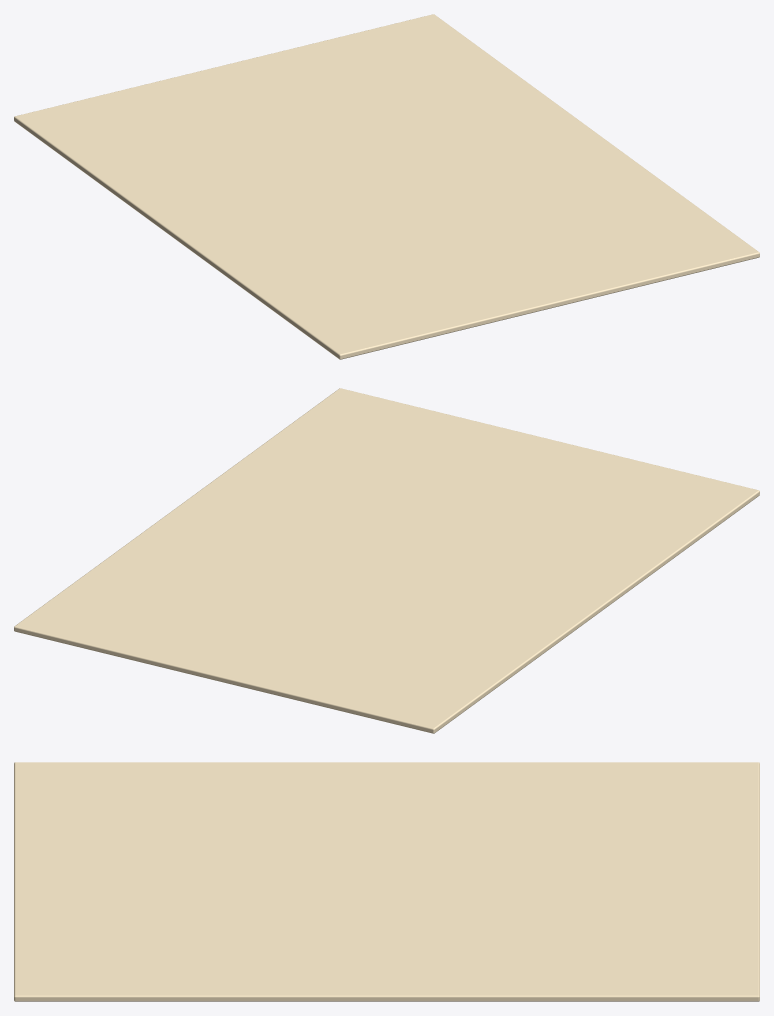
The model's file is fridge-lid-light.glb.
3 views of the same model, one above another, from view 1: azimuth 30°, elevation 25°; view 2: azimuth 150°, elevation 25°; view 3: azimuth 270°, elevation 25° (orthographic). The views are drawn at different scales.
Parts seen in each view (by area): view 1: ivory; view 2: ivory; view 3: ivory.
Boxes of the visible parts, bbox=[...] form: ivory: bbox=[14, 14, 759, 359]; ivory: bbox=[14, 388, 759, 733]; ivory: bbox=[14, 762, 759, 1001].
Size of the model in its own units: 12 by 0.15 by 16.12.
